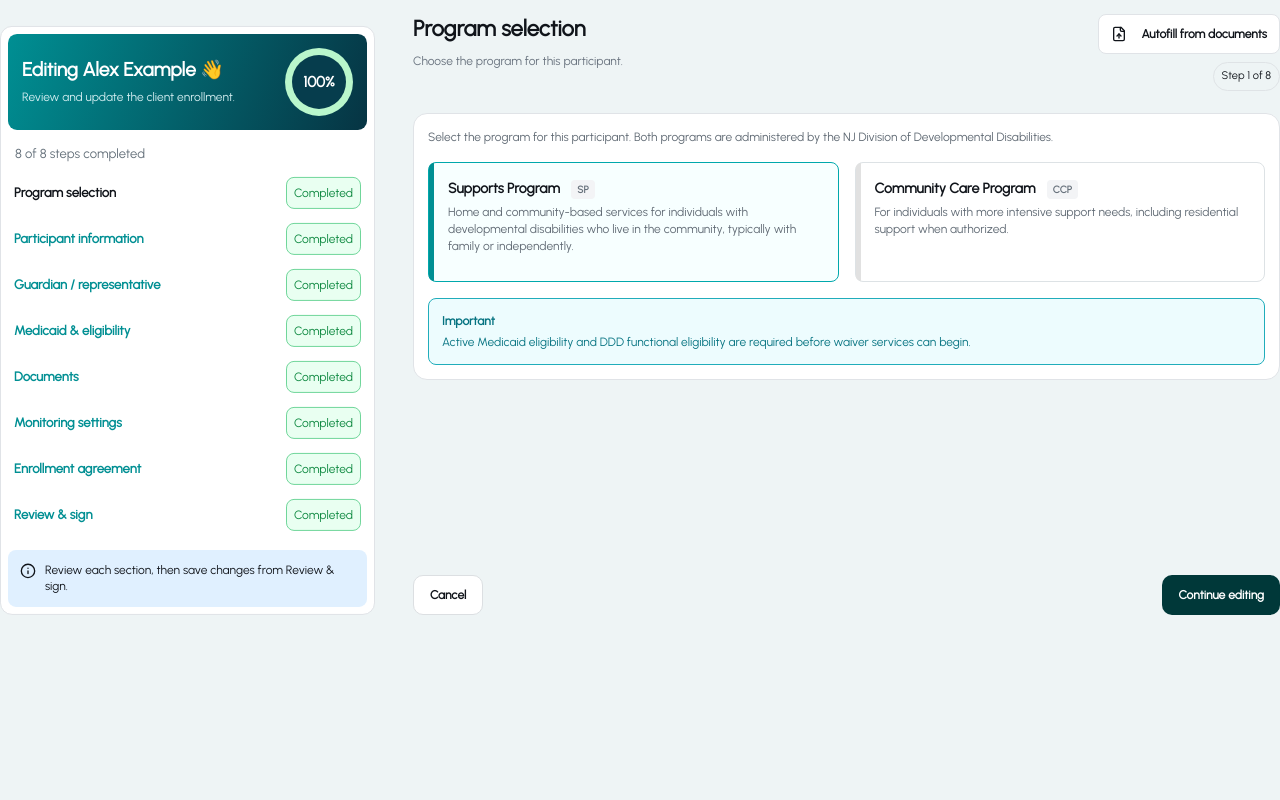
Test: confirmed outcome removal includes attached services in the saved change
Later steps or results of the test are not shown.
Expected: the text "Editing Alex Example" is shown, top-left (22, 58), bottom-right (196, 81)
Click the button "Guardian / representative Completed": (87, 284) top-left (8, 261), bottom-right (367, 307)
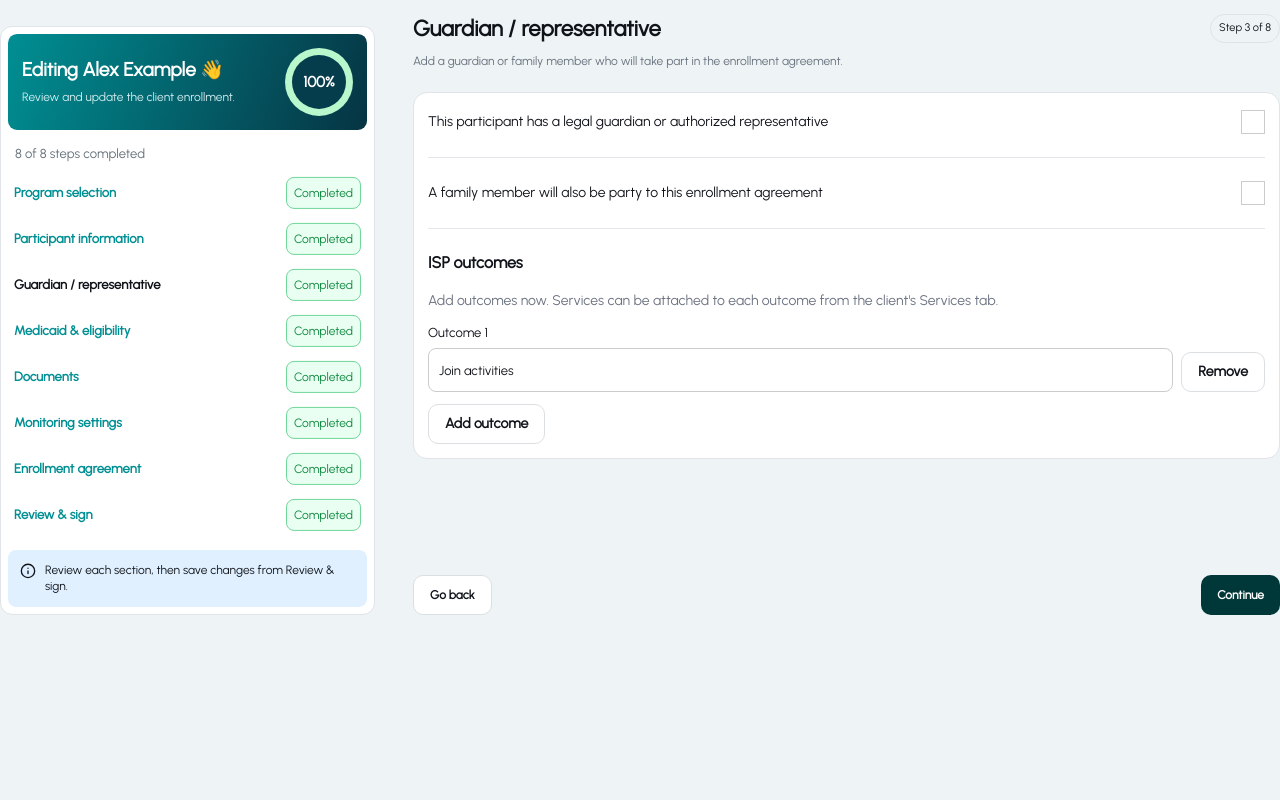
Click the button with aria-label "Remove outcome 1": (1223, 372) top-left (1181, 352), bottom-right (1265, 392)
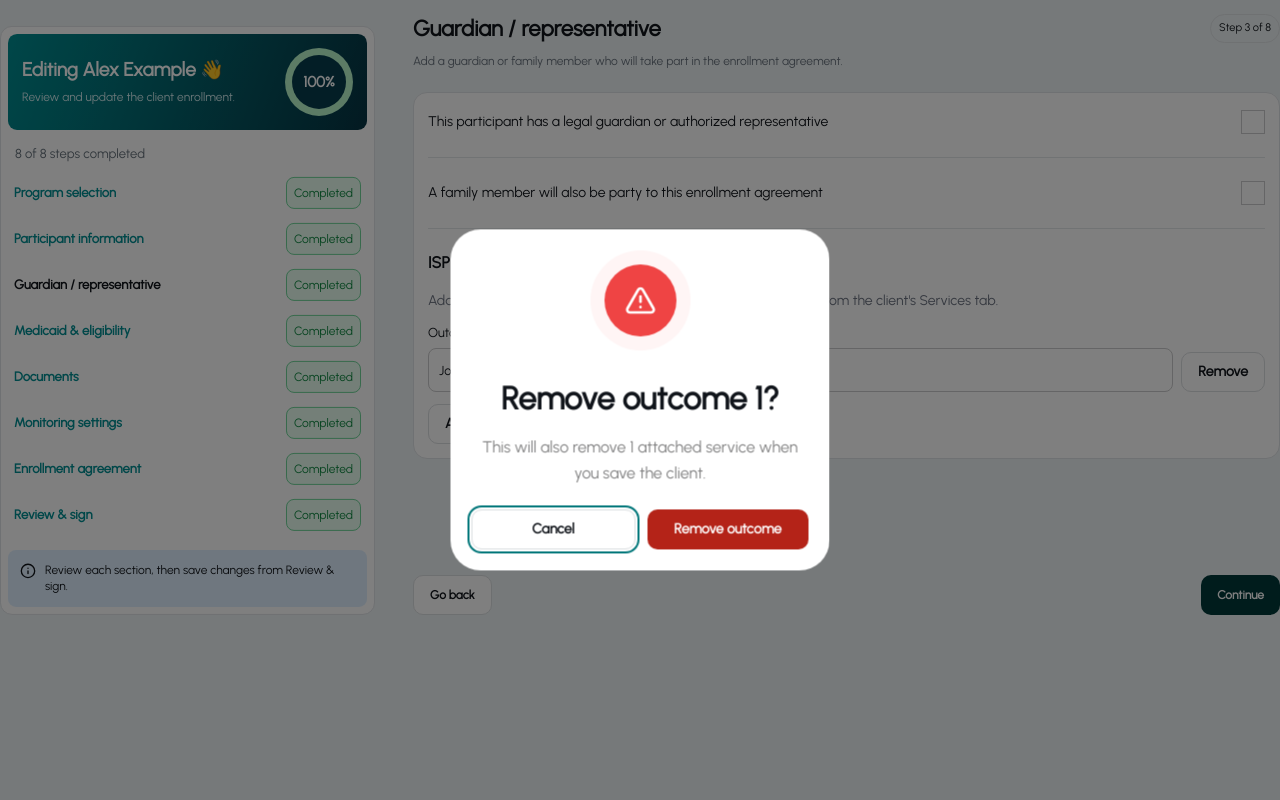
Now the field showing "Join activities" is shown, box top-left (428, 348), bottom-right (1173, 392)
Click the button "Remove outcome": (728, 530) top-left (647, 510), bottom-right (808, 550)
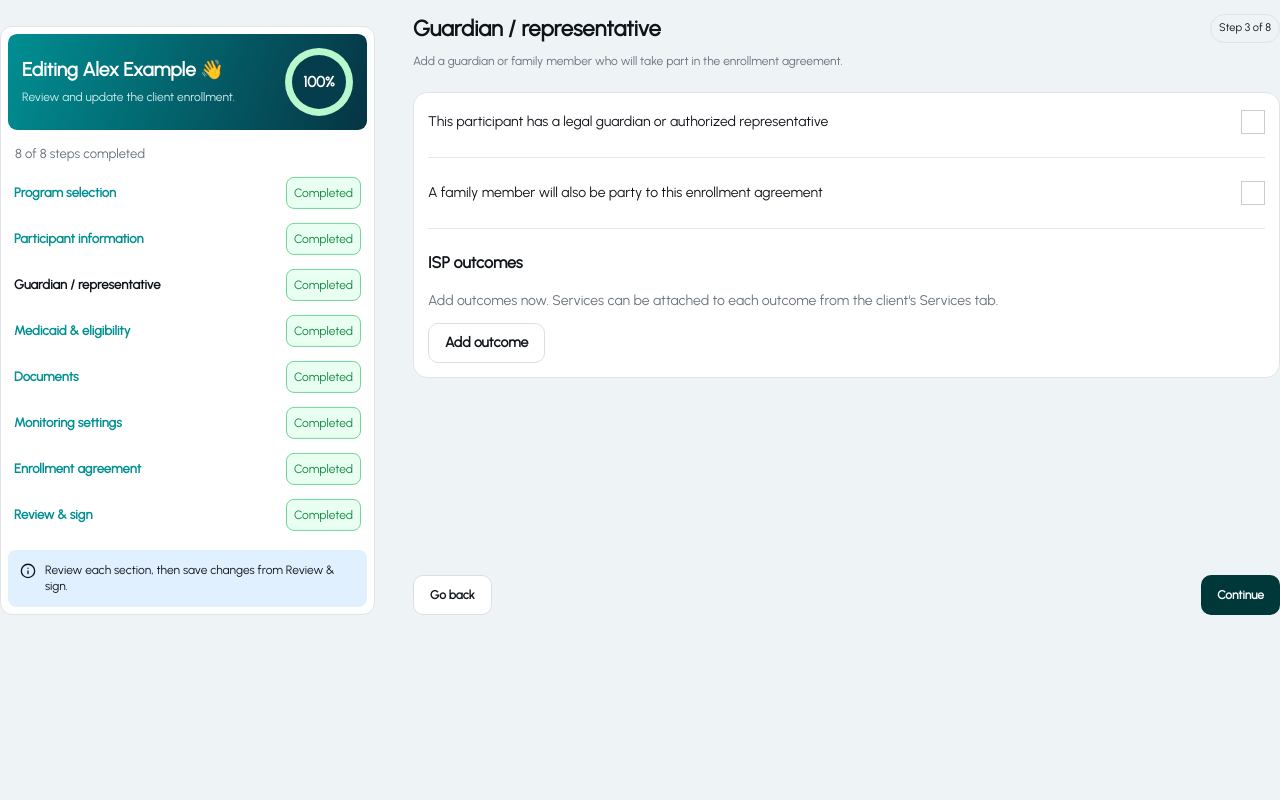
Now the text "Outcome 1" is gone
